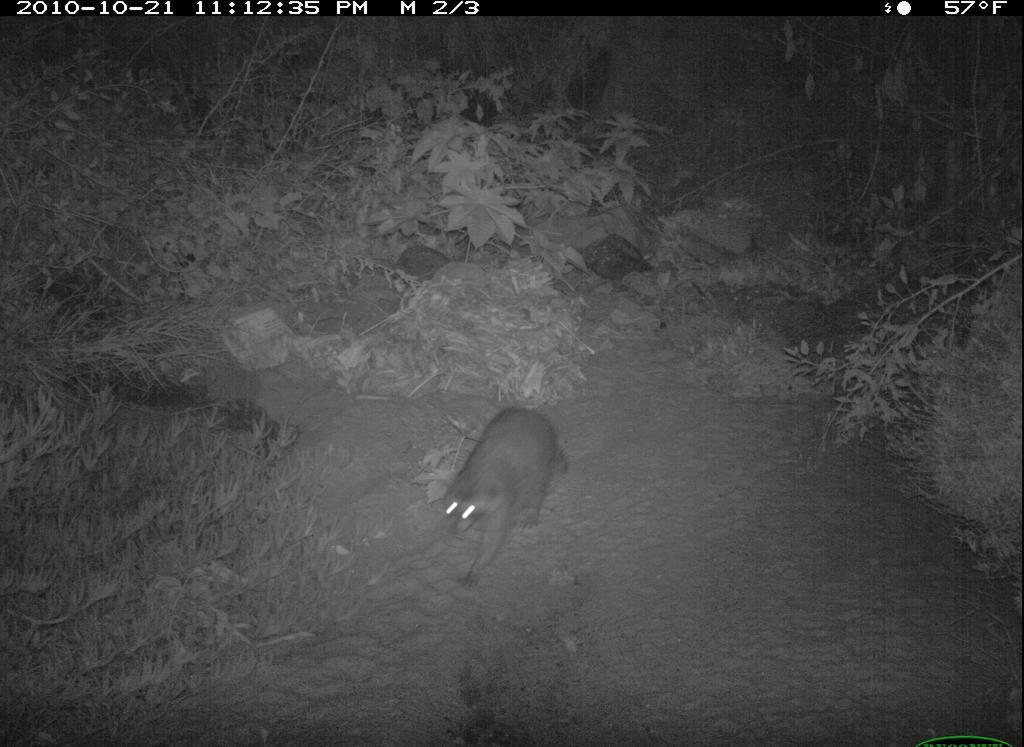raccoon: (401, 392, 597, 591)
